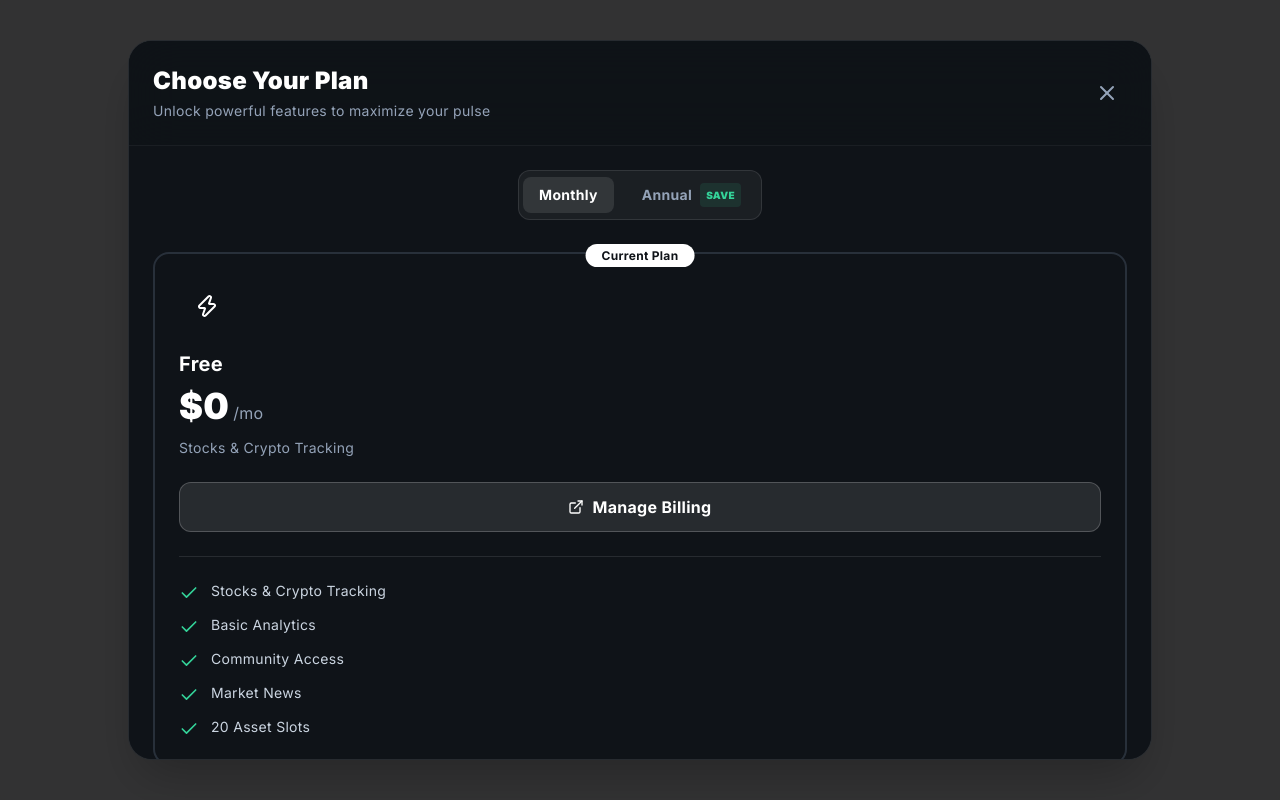
Test: PricingModal › toggles to annual pricing when Annual button is clicked
This screenshot has width=1280, height=800.
Click Annual toggle
Click the button "Annual SAVE" at (691,195), box 626,175 -> 757,215
(page scrolled)
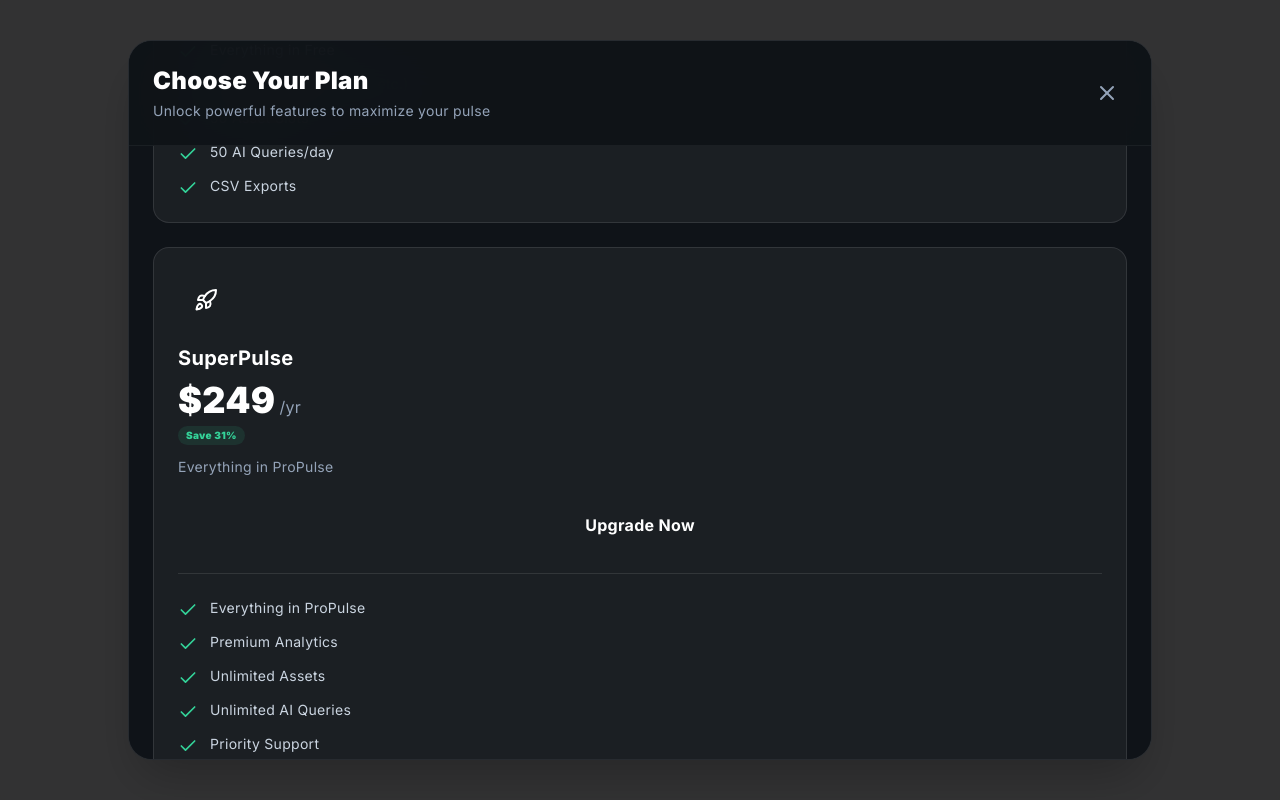
Expected: the text "$249" is shown, 178,380 -> 276,420
